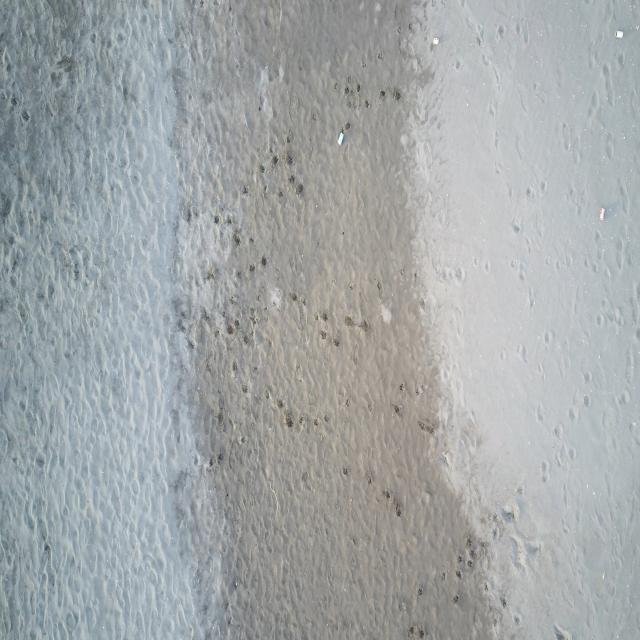tin-and-aluminum-cans: (337, 131, 345, 147), (598, 206, 606, 222), (615, 30, 625, 39), (432, 36, 440, 46)
